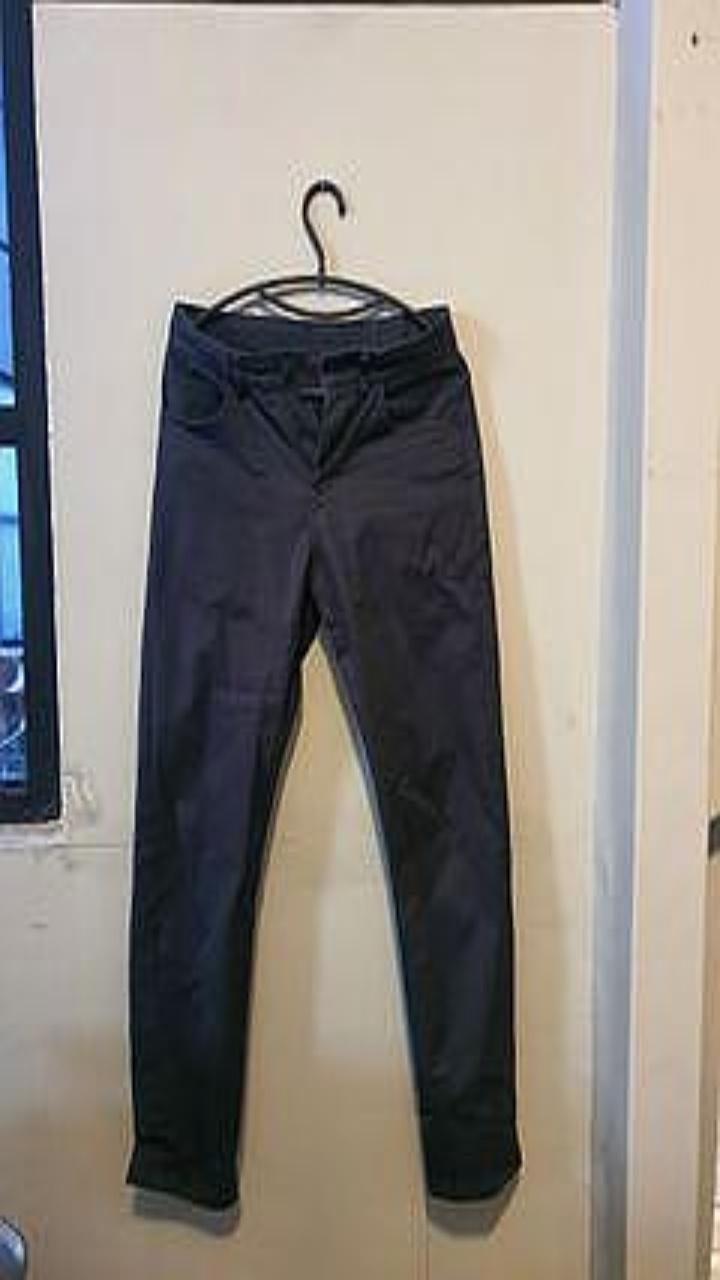Jeans: (126, 301, 521, 1207)
